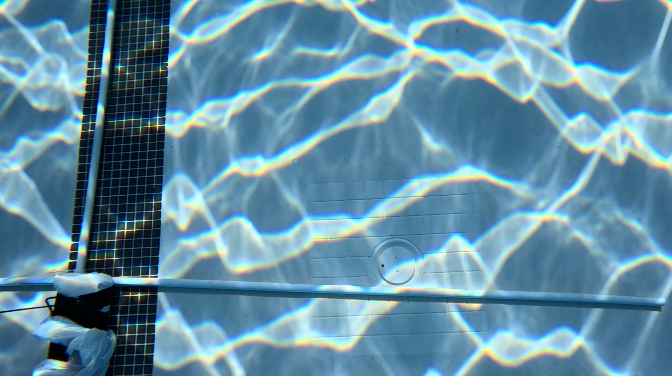sandbag: (34, 273, 116, 374)
